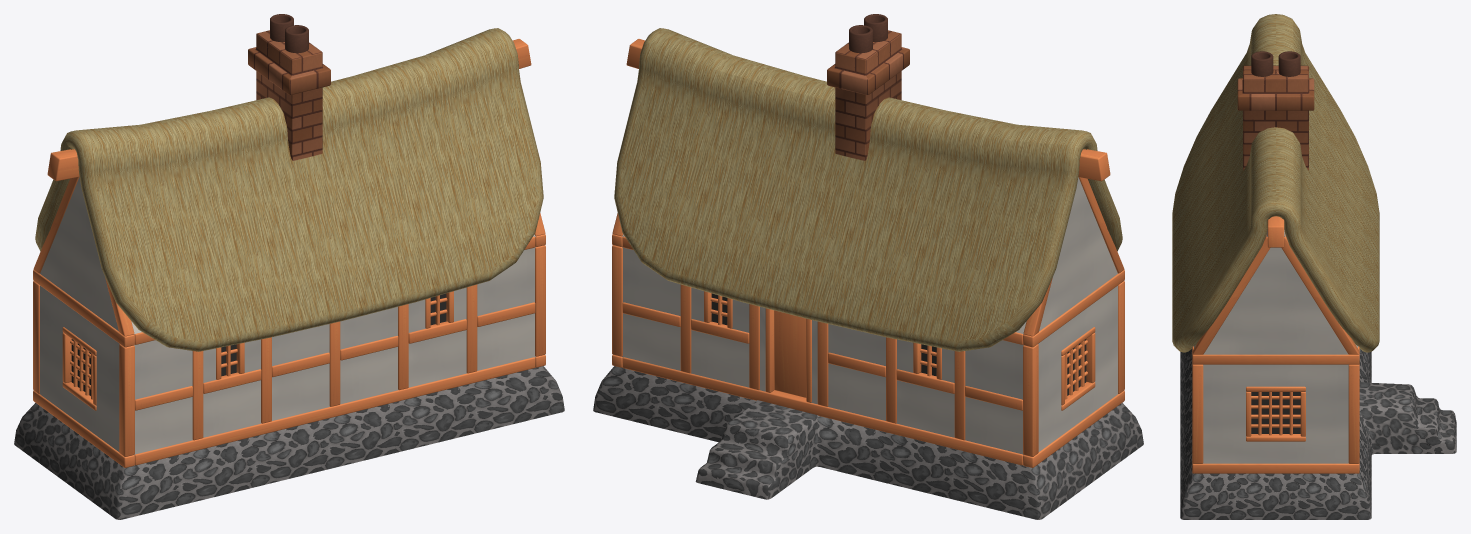
Rendered from Cottage2.gltf.
The picture shows the model from 3 angles, left to right: view 1: azimuth 30°, elevation 25°; view 2: azimuth 150°, elevation 25°; view 3: azimuth 270°, elevation 25°; orthographic projection. The views are drawn at different scales.
Visible parts, largest first — view 1: Cottage Combined, Cottage Fur Roof; view 2: Cottage Combined, Cottage Fur Roof; view 3: Cottage Combined, Cottage Fur Roof.
Boxes of the visible parts, box(x1,y1,x2,y2) form: Cottage Combined: box(14, 14, 564, 519); Cottage Fur Roof: box(65, 28, 543, 351); Cottage Combined: box(593, 14, 1143, 519); Cottage Fur Roof: box(646, 28, 1121, 251); Cottage Combined: box(1172, 14, 1456, 519); Cottage Fur Roof: box(1172, 15, 1293, 345).
Size of the model in its own units: 9.09 by 7.36 by 5.19.
